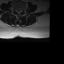CCS_normal: (18, 9, 19, 16)
LFS_normal: (21, 8, 23, 13)
LLS_normal: (19, 9, 21, 14)
RFS_normal: (14, 8, 16, 13)
RLS_normal: (16, 8, 18, 14)
